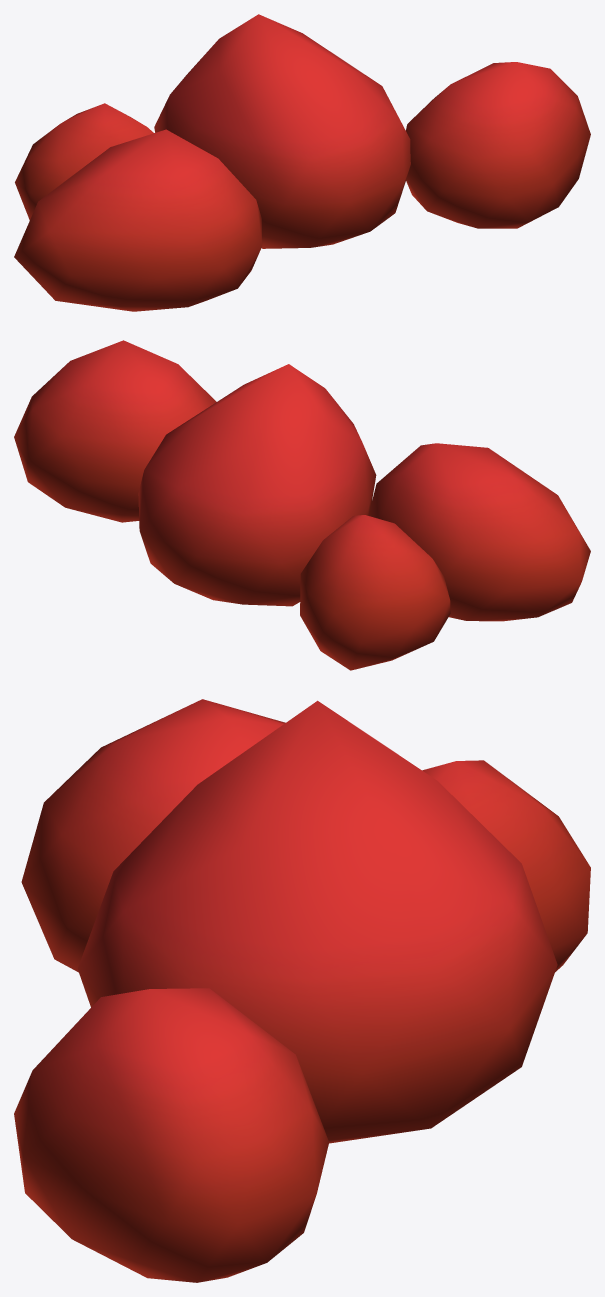
The model's file is Bush_02.3.fbx.
3 views of the same model, one above another, from view 1: azimuth 30°, elevation 25°; view 2: azimuth 150°, elevation 25°; view 3: azimuth 270°, elevation 25° (orthographic). The views are drawn at different scales.
Parts seen in each view (by area): view 1: Bush_02.3; view 2: Bush_02.3; view 3: Bush_02.3.
Part boxes in pixels (x1,y1,x2,y2): Bush_02.3: (14, 14, 590, 311); Bush_02.3: (14, 340, 590, 670); Bush_02.3: (14, 699, 590, 1282).
Size of the model in its own units: 265 by 137 by 99.22.
